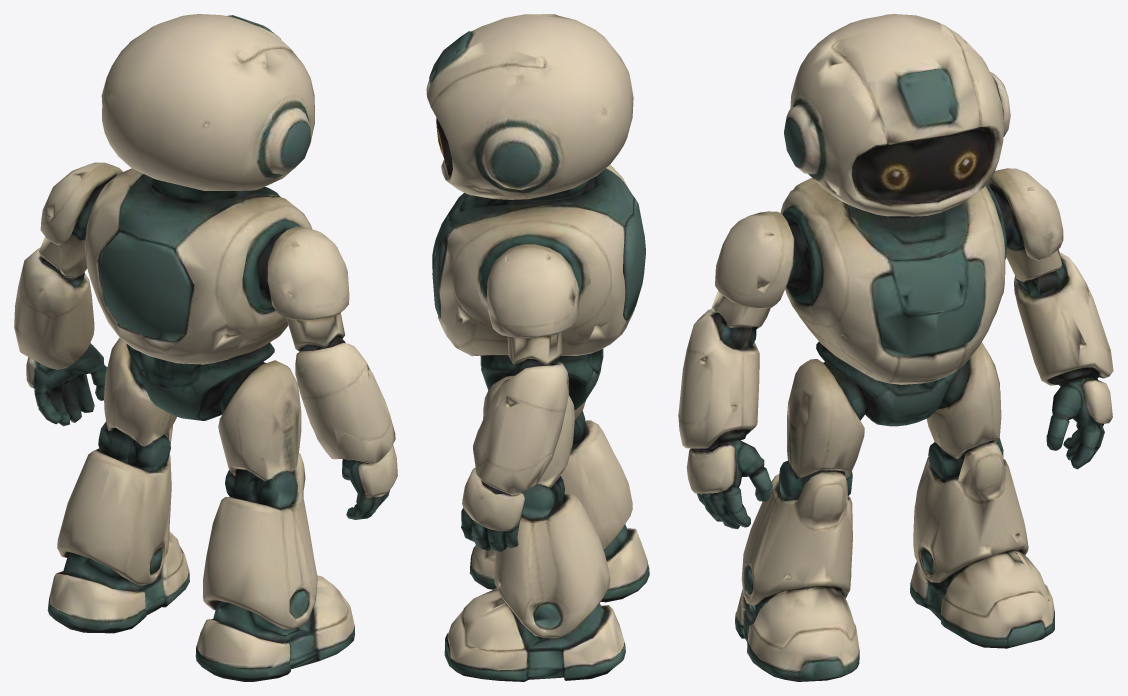
The model's file is robot.glb.
The picture shows the model from 3 angles, left to right: view 1: azimuth 30°, elevation 25°; view 2: azimuth 150°, elevation 25°; view 3: azimuth 270°, elevation 25°; orthographic projection. The views are drawn at different scales.
Visible parts, largest first — view 1: tripo_node_e05b67ca-c859-46df-bae8-c5c6e9ec3022; view 2: tripo_node_e05b67ca-c859-46df-bae8-c5c6e9ec3022; view 3: tripo_node_e05b67ca-c859-46df-bae8-c5c6e9ec3022.
Boxes of the visible parts, left/top/right/bottom form: tripo_node_e05b67ca-c859-46df-bae8-c5c6e9ec3022: left=14, top=14, right=397, bottom=681; tripo_node_e05b67ca-c859-46df-bae8-c5c6e9ec3022: left=426, top=14, right=649, bottom=681; tripo_node_e05b67ca-c859-46df-bae8-c5c6e9ec3022: left=678, top=14, right=1113, bottom=681.
Bounding box in the file's own units: 0.3916 × 0.9992 × 0.6466.
Materials: 1 (1 with a texture image).
